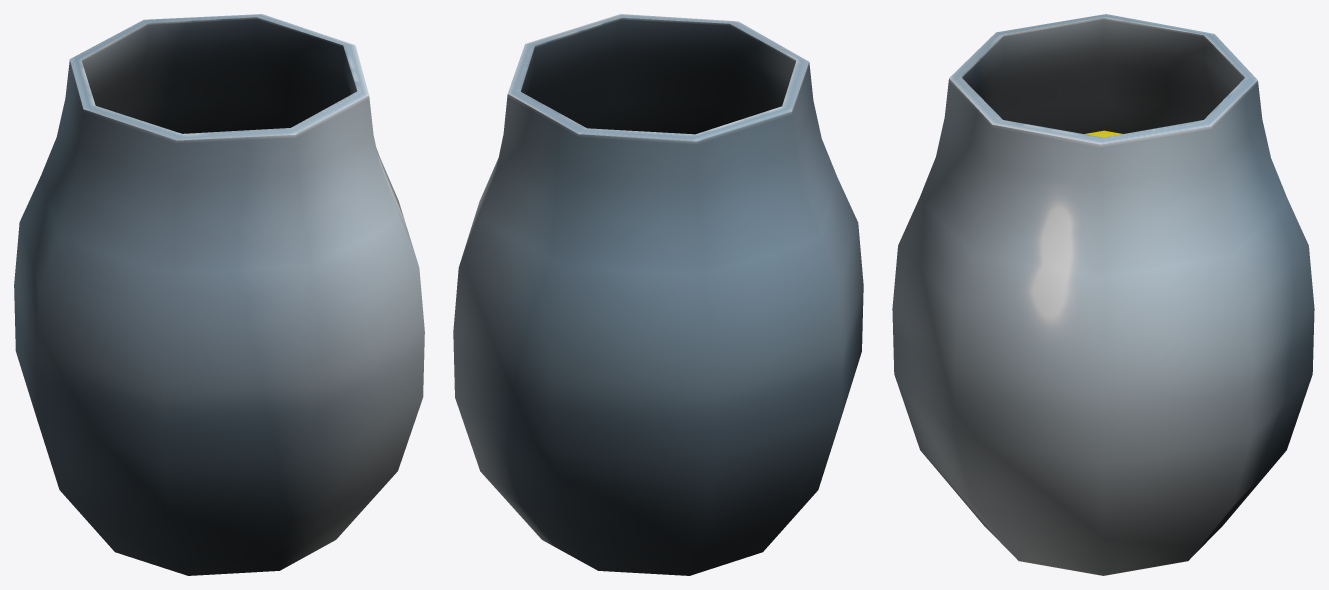
File: Goldnektar_Cocktail.glb
3 renders of one model, left to right at view 1: azimuth 30°, elevation 25°; view 2: azimuth 150°, elevation 25°; view 3: azimuth 270°, elevation 25°, orthographic.
Parts seen in each view (by area): view 1: CocktailGlass; view 2: CocktailGlass; view 3: CocktailGlass.
Boxes of the visible parts, x1,y1,x2,y2 form: CocktailGlass: (14, 14, 424, 575); CocktailGlass: (453, 14, 863, 575); CocktailGlass: (892, 14, 1314, 575).
Size of the model in its own units: 0.0606 by 0.071 by 0.0606.
Materials: 2 (2 with a texture image).
